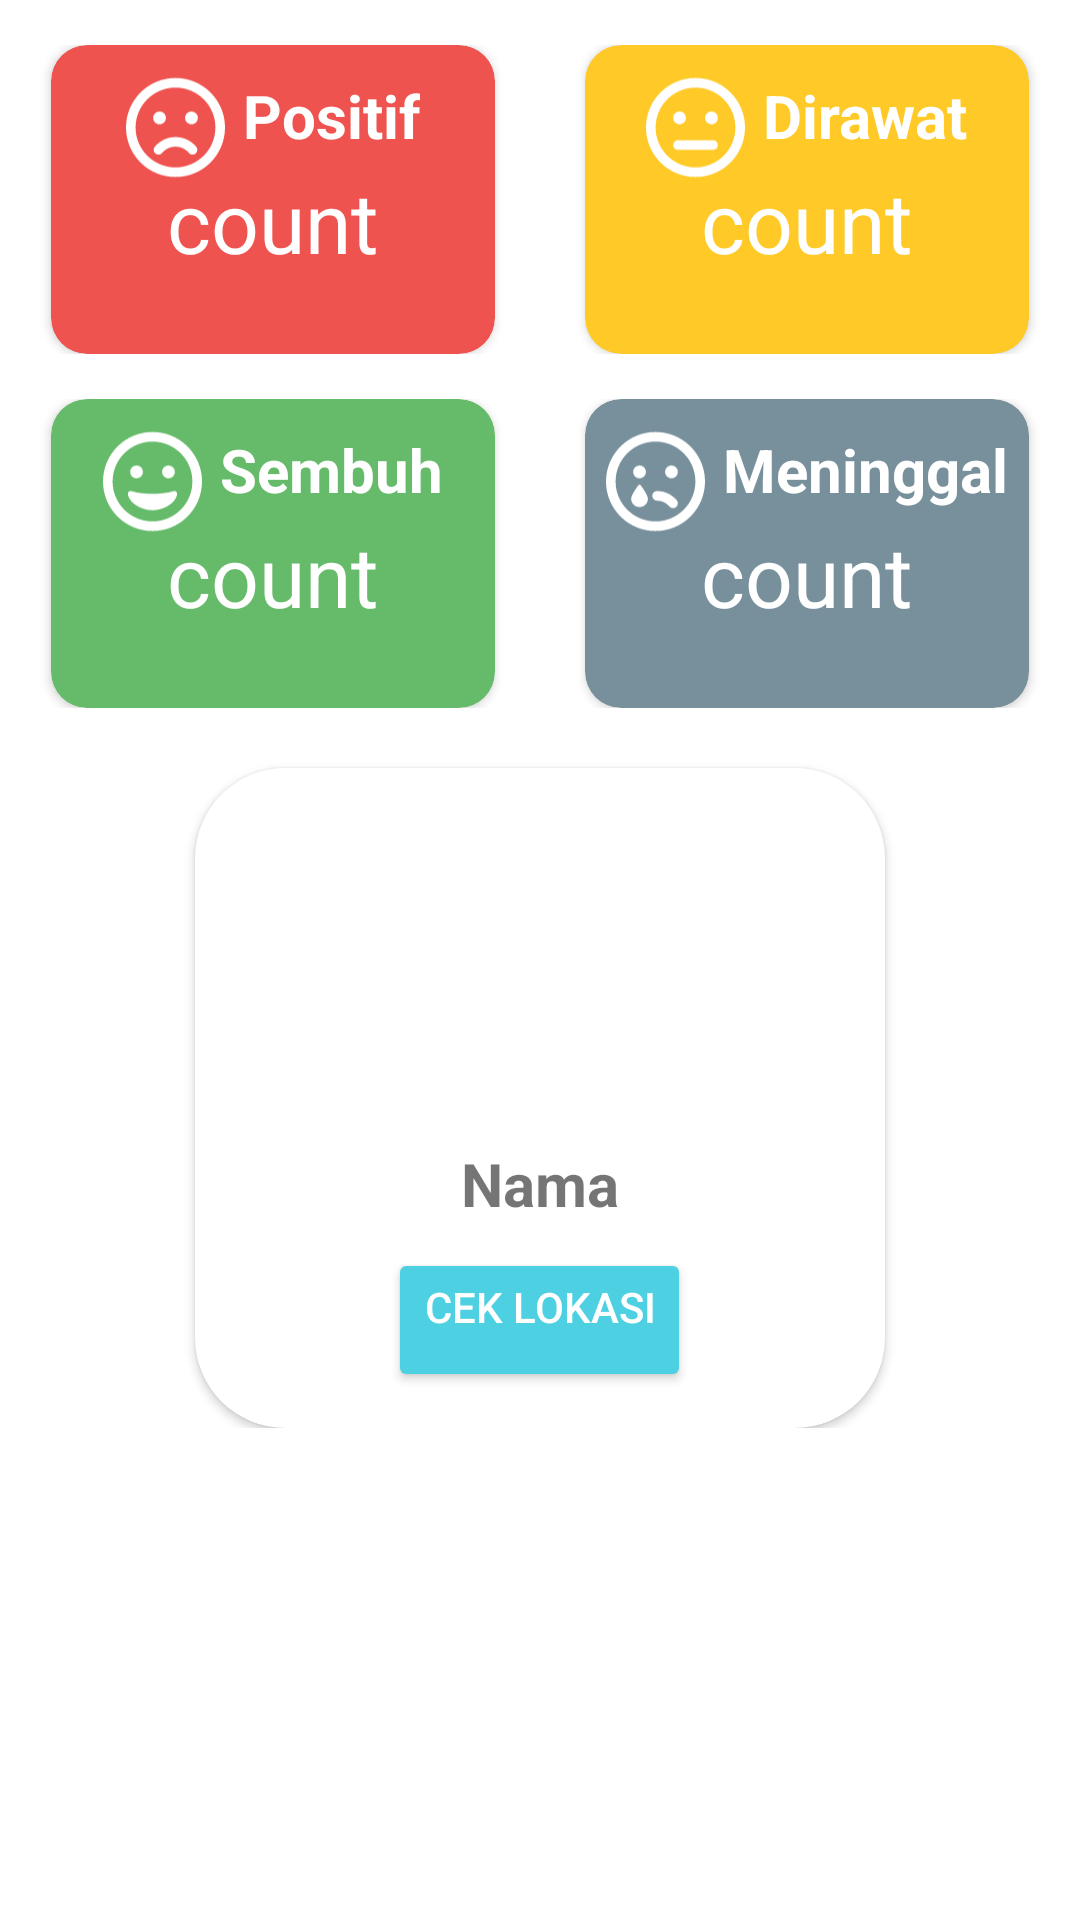

Icon click points for this 1080px x 1920px phone screenshot, format (x,y):
frown: (175,127)
grin: (152,481)
meh: (695,127)
sad tear: (655,481)
